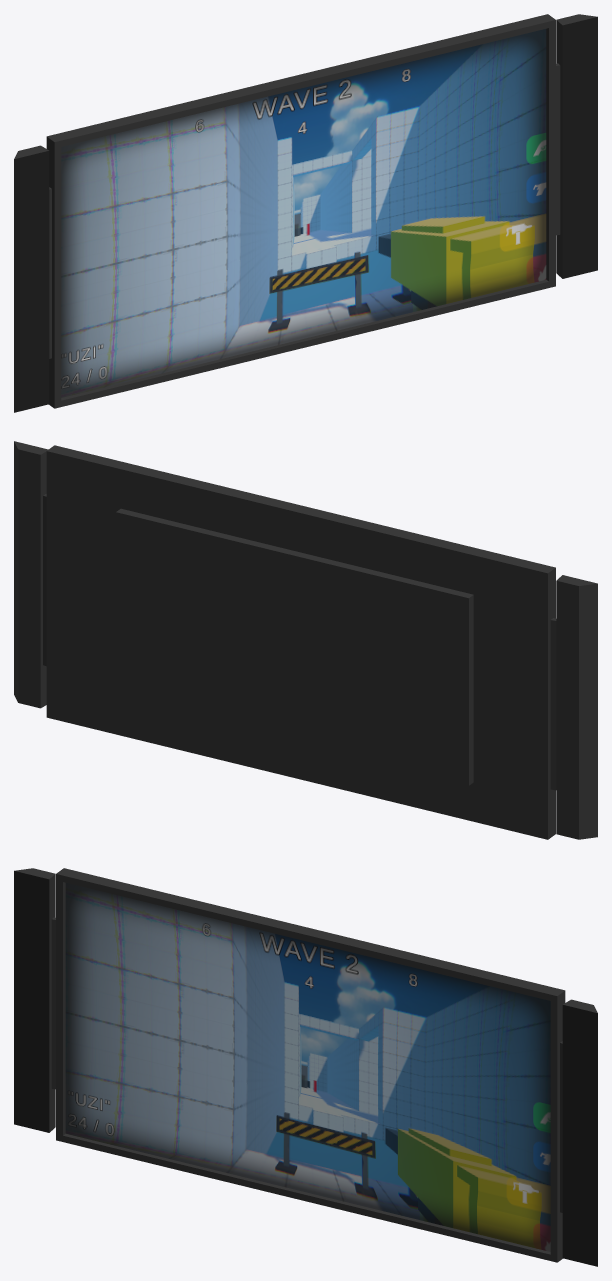
Rendered from TV_5_Mounted.obj.
3 views of the same model, one above another, from view 1: azimuth 30°, elevation 25°; view 2: azimuth 150°, elevation 25°; view 3: azimuth 330°, elevation 25° (orthographic).
Visible parts, largest first — view 1: TV_5_Mounted; view 2: TV_5_Mounted; view 3: TV_5_Mounted.
Boxes of the visible parts, x1,y1,x2,y2 form: TV_5_Mounted: (14, 14, 597, 412); TV_5_Mounted: (14, 441, 597, 839); TV_5_Mounted: (14, 868, 597, 1266).
Bounding box in the file's own units: 1.54 × 0.6696 × 0.0615.
